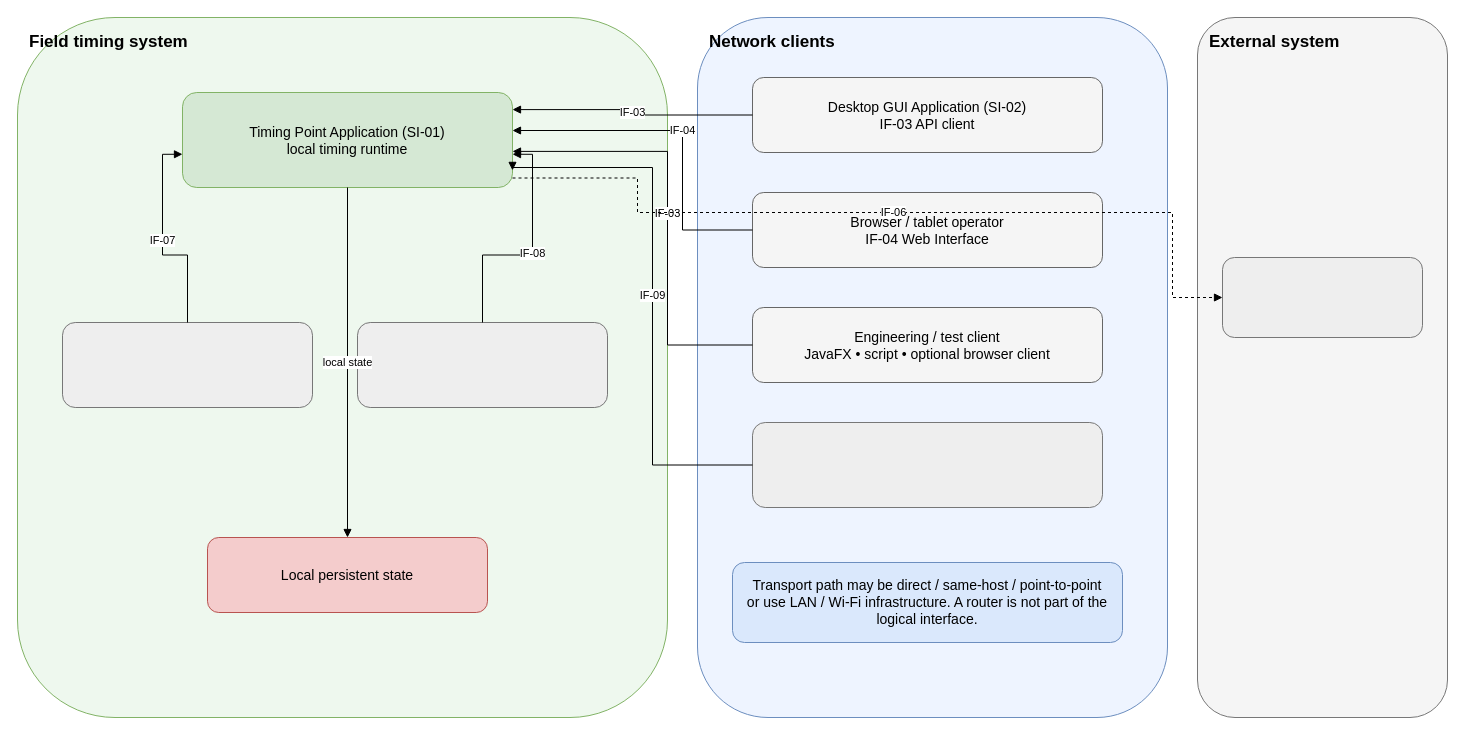
Some shapes in this 1465 by 735 pixel diagram are drawn without their labels. Each missing label, with the centre of its shape:
"Backend system" goes at (x=1322, y=297).
"CAN devices keypad + DisplayRev1Can" goes at (x=482, y=365).
"DisplayRev2Wifi / Smart Display V2 smart IP client • discovers SI-01 via mDNS" goes at (x=927, y=465).
"RFID subsystem reader / antennas" goes at (x=187, y=365).
